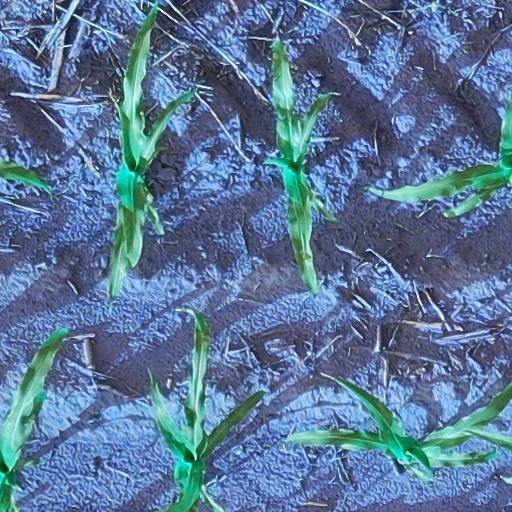planta: (108, 2, 191, 297), (266, 38, 335, 293)
